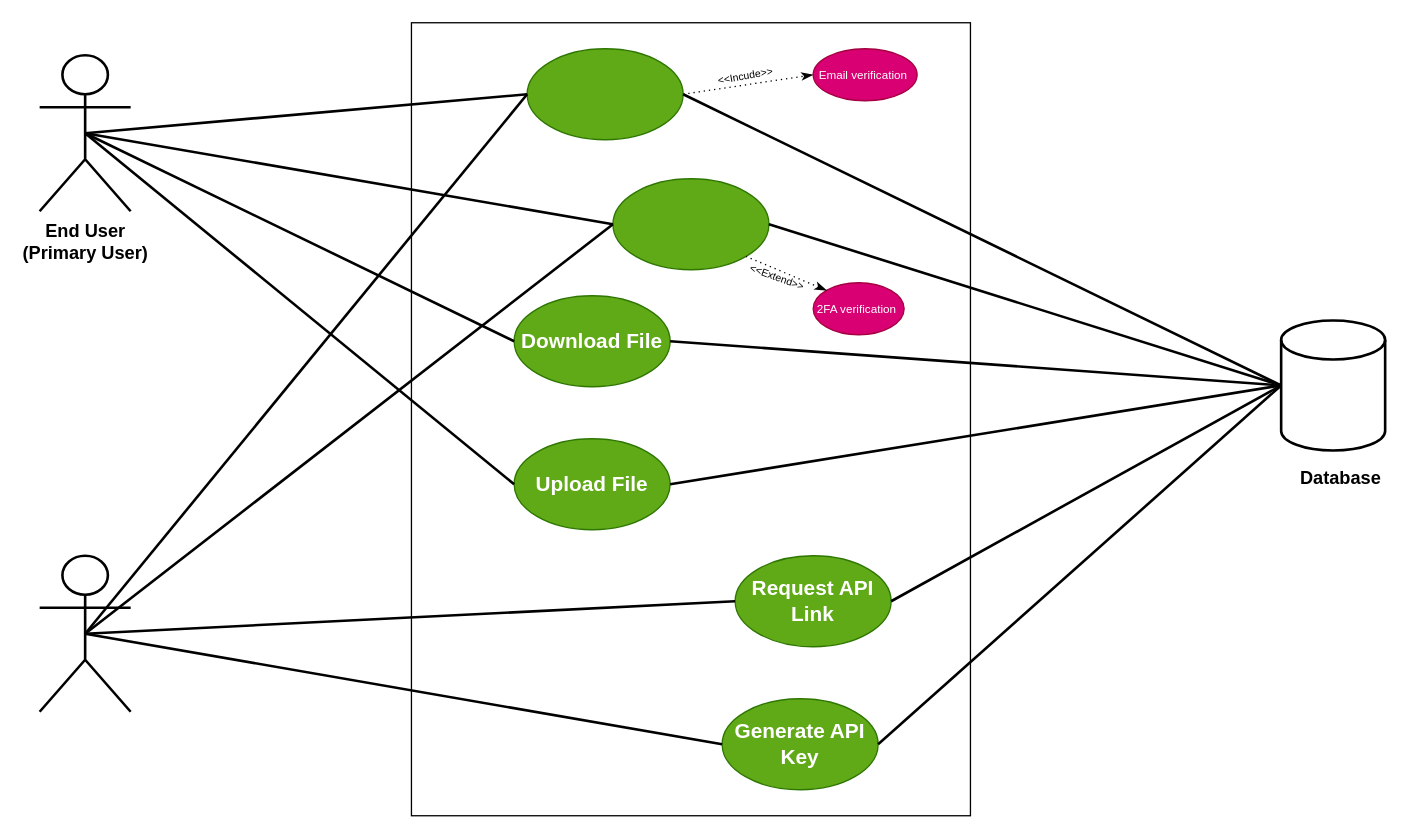
Image size: 1409x838. Some labels were removed from this diagram. The shapes that lost their labels are listed below. From the top down, each one's centre as x and y in pixels, then its label:
the point at 604,93: Register
the point at 690,223: Login
the point at 84,633: End User (Developers)
